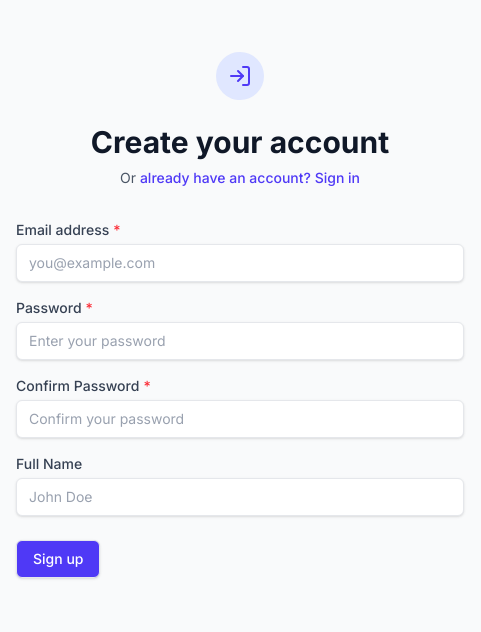
Test case: RegisterPage › Validation Tests › displays error when required fields are empty
Click the button "Sign up": {"x": 58, "y": 559} [16,540,100,578]
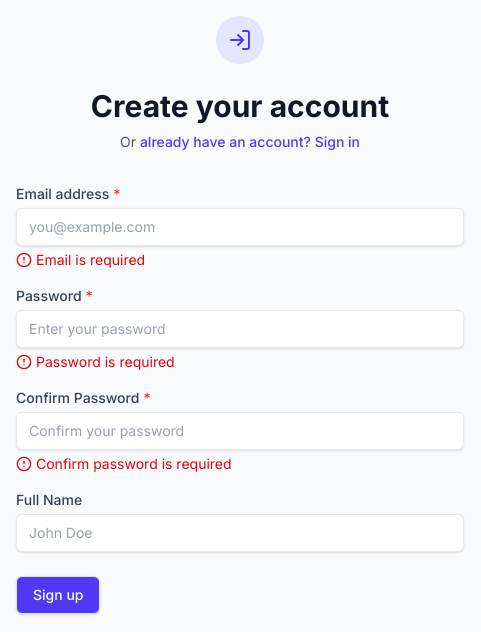
Expected: the text "Email is required" is shown, [36,250,145,270]
